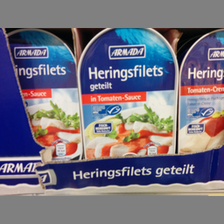fish: (76, 29, 177, 158), (5, 28, 84, 161), (178, 28, 224, 156)
